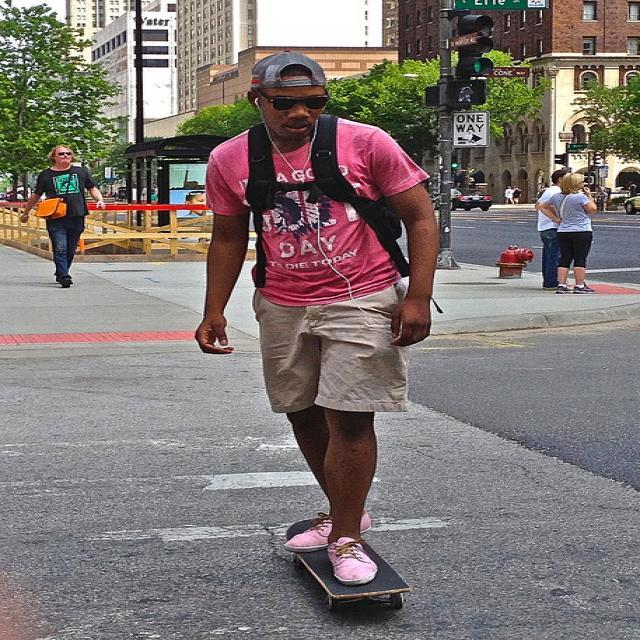fire_hydrant: (493, 243, 535, 281)
